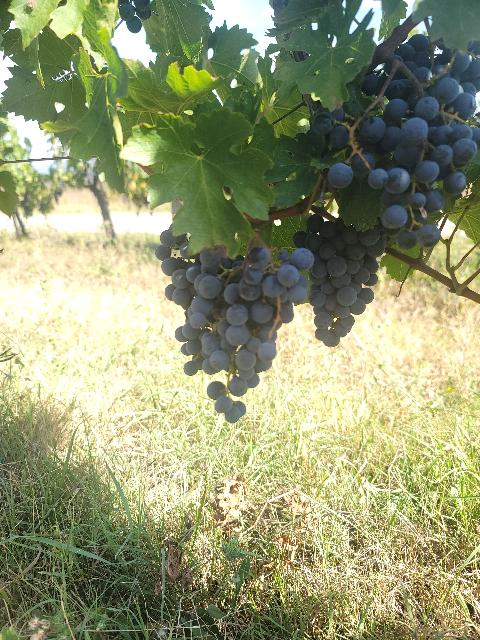grapes: (156, 230, 314, 422), (356, 78, 478, 229), (292, 214, 386, 346)
